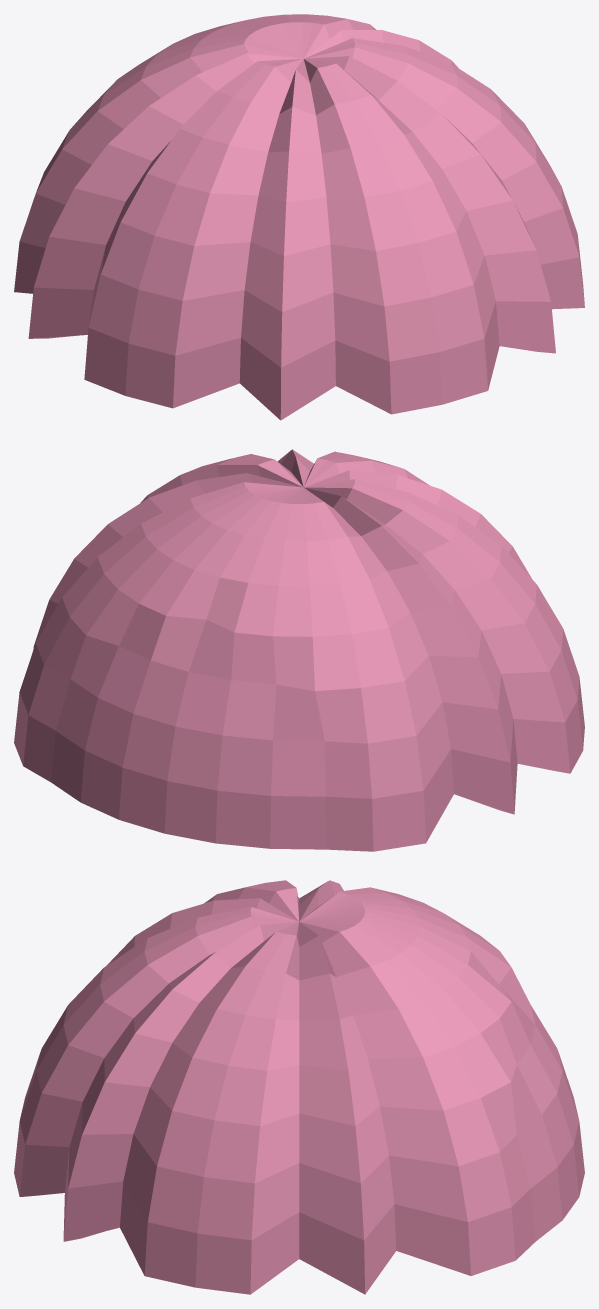
File: N7_011_VoSo.glb
3 renders of one model, top to bottom at view 1: azimuth 30°, elevation 25°; view 2: azimuth 150°, elevation 25°; view 3: azimuth 270°, elevation 25°, orthographic. The views are drawn at different scales.
Visible parts, largest first — view 1: VoSo; view 2: VoSo; view 3: VoSo.
Part boxes in pixels (x1,y1,x2,y2): VoSo: [14, 14, 584, 420]; VoSo: [14, 449, 584, 851]; VoSo: [14, 880, 584, 1294].
Size of the model in its own units: 0.3152 by 0.1588 by 0.3122.
